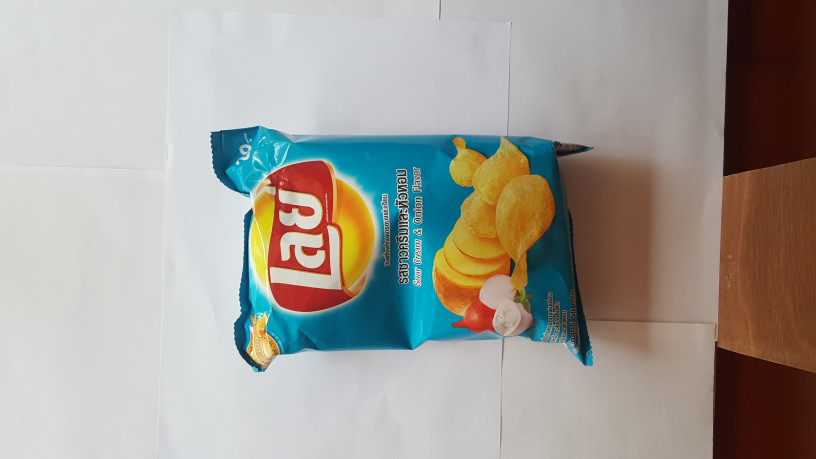lays-onion: (204, 112, 617, 390)
